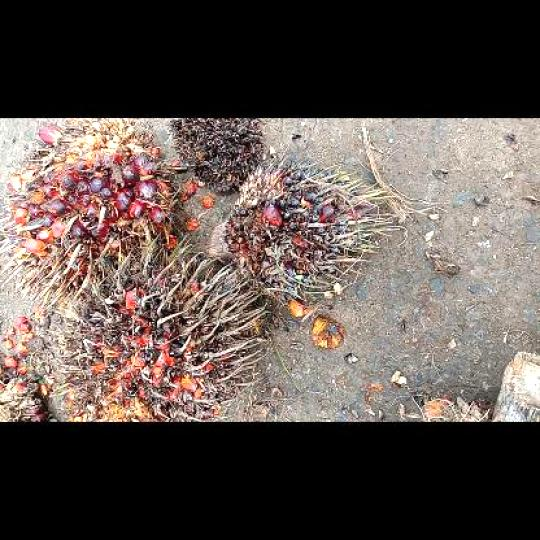masak: (7, 119, 198, 309)
terlalu masak: (47, 245, 270, 420)
